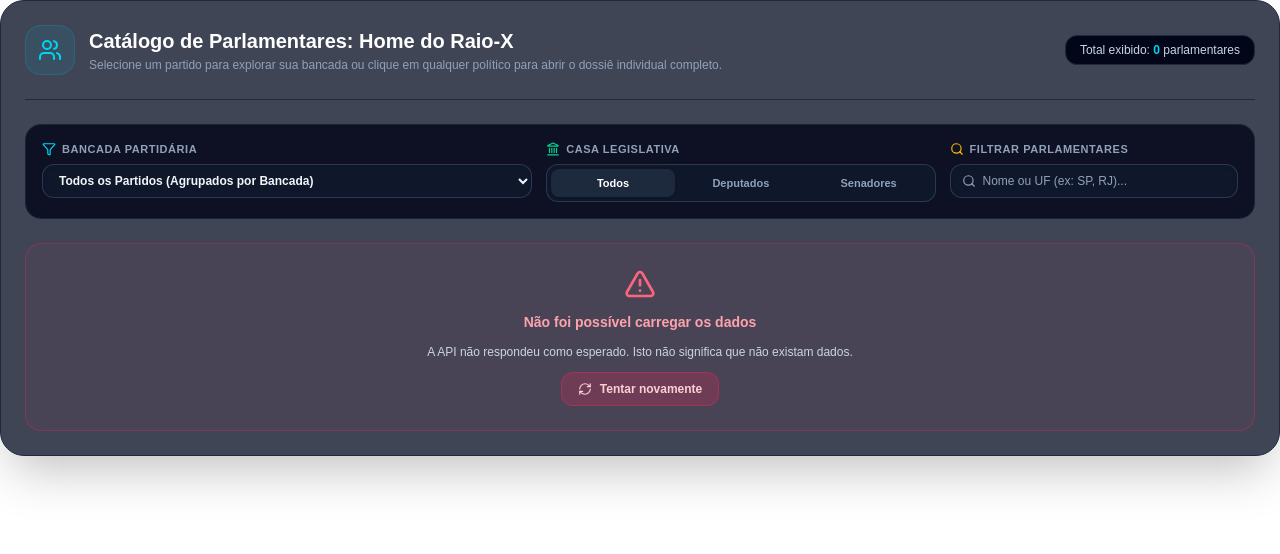
Test: PoliticianHome › erro mostra alerta e retry
The image size is (1280, 554).
Expected: the message is shown, x1=25 y1=243 x2=1255 y2=431
Click the button "Tentar novamente".
click(640, 389)  # box x1=561 y1=372 x2=719 y2=406
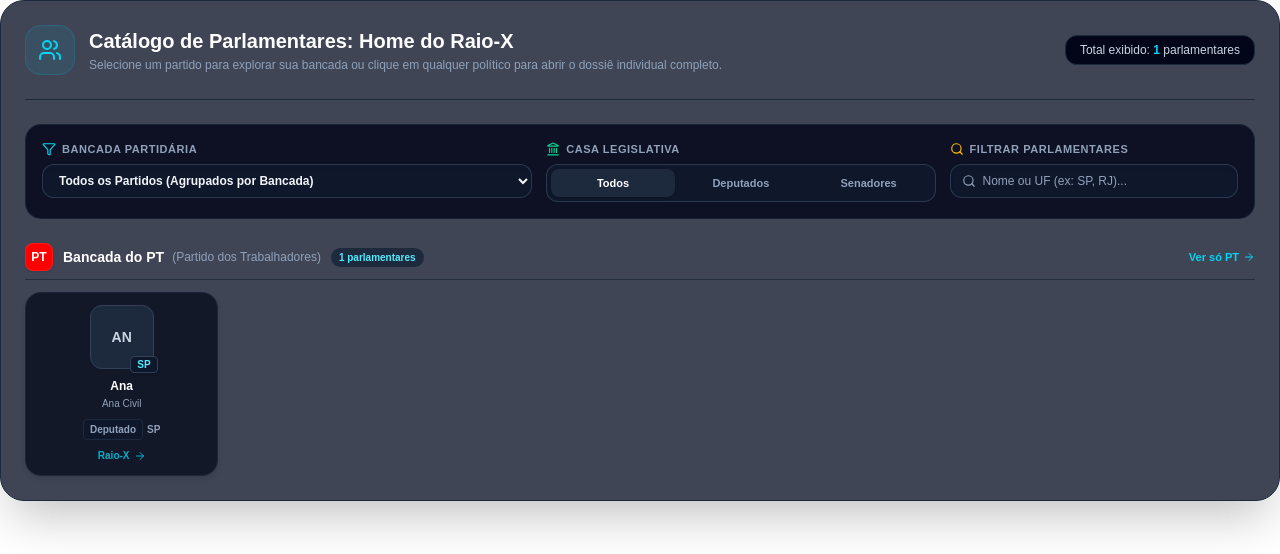
Now the text "Ana" is shown, box x1=110 y1=379 x2=133 y2=394
